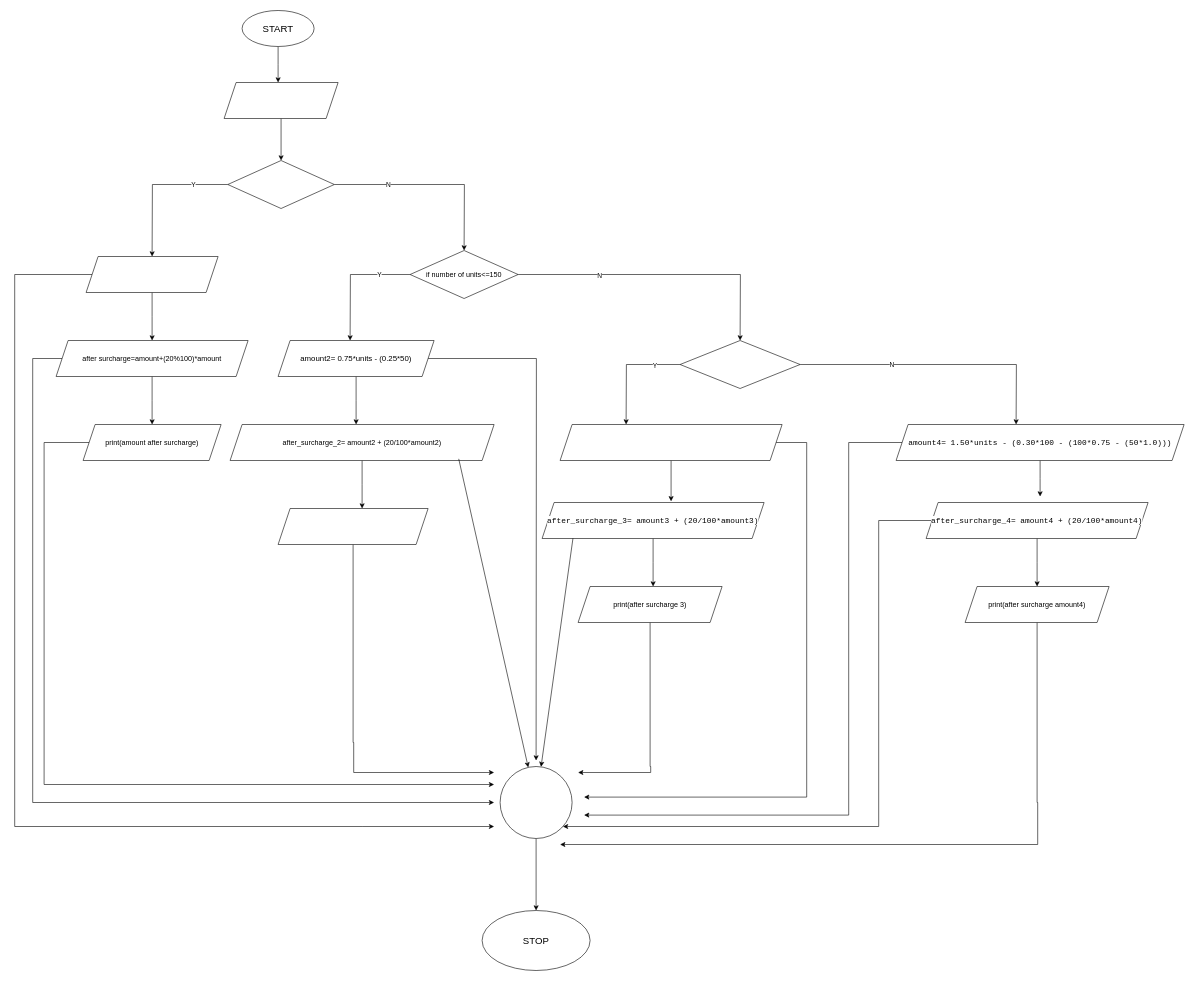
The diagram is 1195 pixels wide and 981 high, and some of its shapes have lost their labels. The shapes that lost their labels are listed below. From the top down, each one's centre as x and y in pixels, then its label:
(281,100): enter number of units
(280,184): if number of units<=50
(152,274): amount=0.5*units
(740,364): if number of units<=250
(671,442): amount3= 1.20*units - (100*0.5 - (50*0.70))
(353,526): print (after surcharge amount2)
